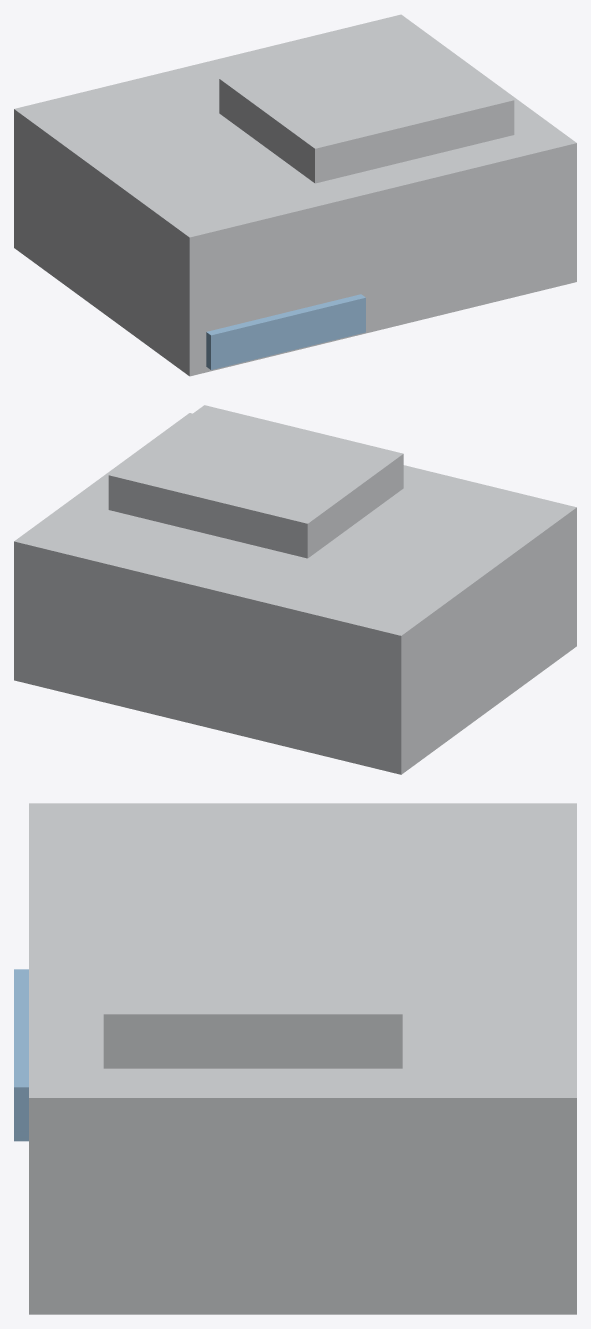
File: built-melting-snow.glb
The picture shows the model from 3 angles, top to bottom: view 1: azimuth 30°, elevation 25°; view 2: azimuth 150°, elevation 25°; view 3: azimuth 270°, elevation 25°; orthographic projection. The views are drawn at different scales.
Visible parts, largest first — view 1: built-melting-snow; view 2: built-melting-snow; view 3: built-melting-snow.
Part boxes in pixels (left/top/right/bottom): built-melting-snow: left=14, top=14, right=576, bottom=376; built-melting-snow: left=14, top=405, right=576, bottom=774; built-melting-snow: left=14, top=803, right=576, bottom=1314.
Size of the model in its own units: 0.7 by 0.3 by 0.565.
